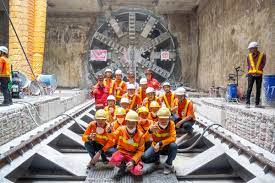arm: (155, 121, 176, 146), (100, 128, 119, 154), (132, 131, 146, 166), (177, 100, 193, 122), (81, 122, 93, 144)
face: (125, 119, 138, 130)
footwear: (162, 163, 176, 175)
glove: (150, 141, 160, 152)
helmet: (247, 39, 261, 52), (124, 109, 139, 121), (155, 106, 170, 118), (92, 108, 108, 119), (174, 84, 188, 95), (0, 43, 8, 54)
human: (109, 108, 146, 176), (147, 106, 179, 170), (80, 106, 114, 161), (242, 38, 267, 104), (171, 83, 196, 130), (0, 42, 14, 104)
leg: (162, 142, 178, 174), (0, 76, 10, 103)
novest: (245, 50, 265, 76)
vest: (116, 128, 141, 160), (152, 119, 174, 145), (87, 122, 109, 147), (245, 50, 265, 76), (176, 98, 193, 120), (0, 54, 10, 76)
